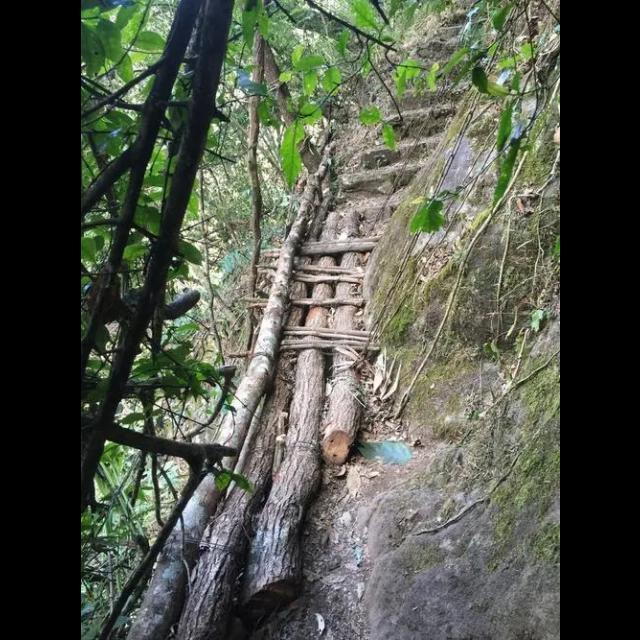fallen_tree: (137, 159, 373, 639)
